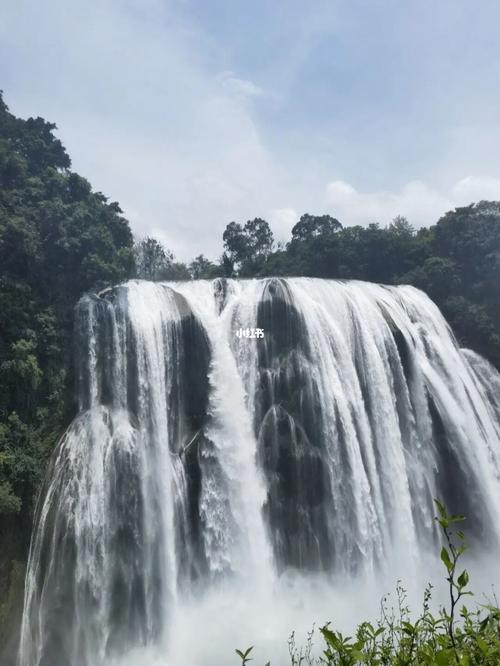mountain: (157, 263, 489, 599)
